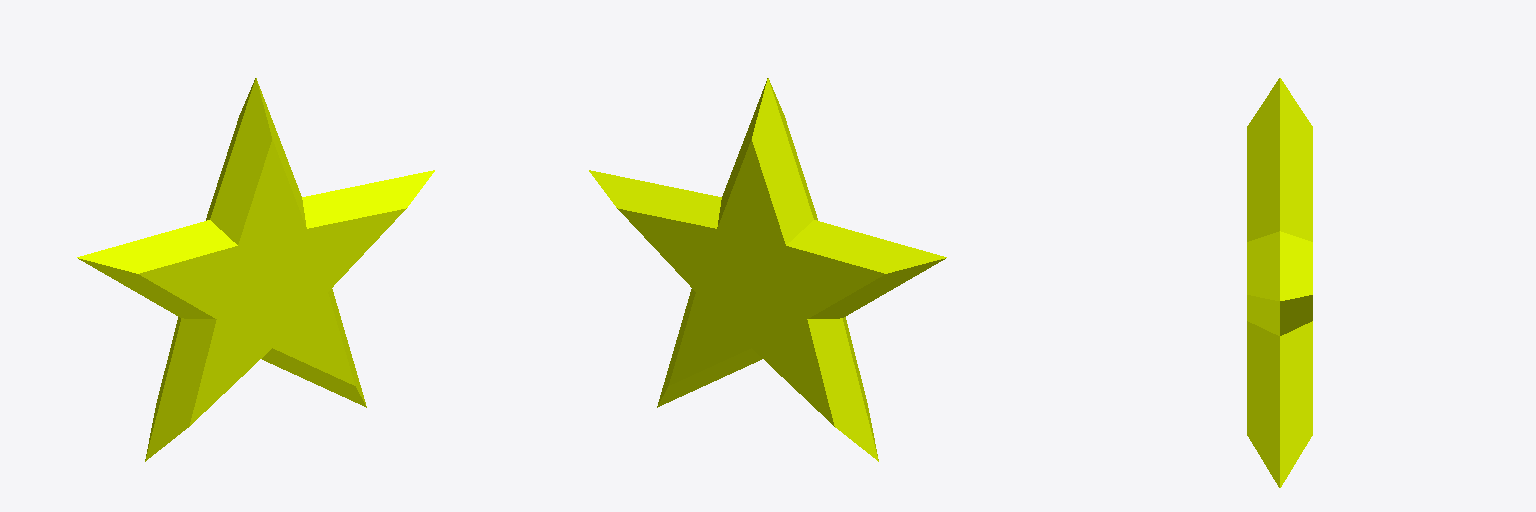
3 views of the same model, side by side, from view 1: azimuth 30°, elevation 25°; view 2: azimuth 150°, elevation 25°; view 3: azimuth 270°, elevation 25° (orthographic).
Parts seen in each view (by area): view 1: 円; view 2: 円; view 3: 円.
Part boxes in pixels (x1,y1,x2,y2): 円: (77, 78, 434, 461); 円: (589, 78, 946, 461); 円: (1247, 78, 1312, 487).
Bounding box in the file's own units: 1.9 × 1.81 × 0.3005.
Materials: 1 (1 with a texture image).